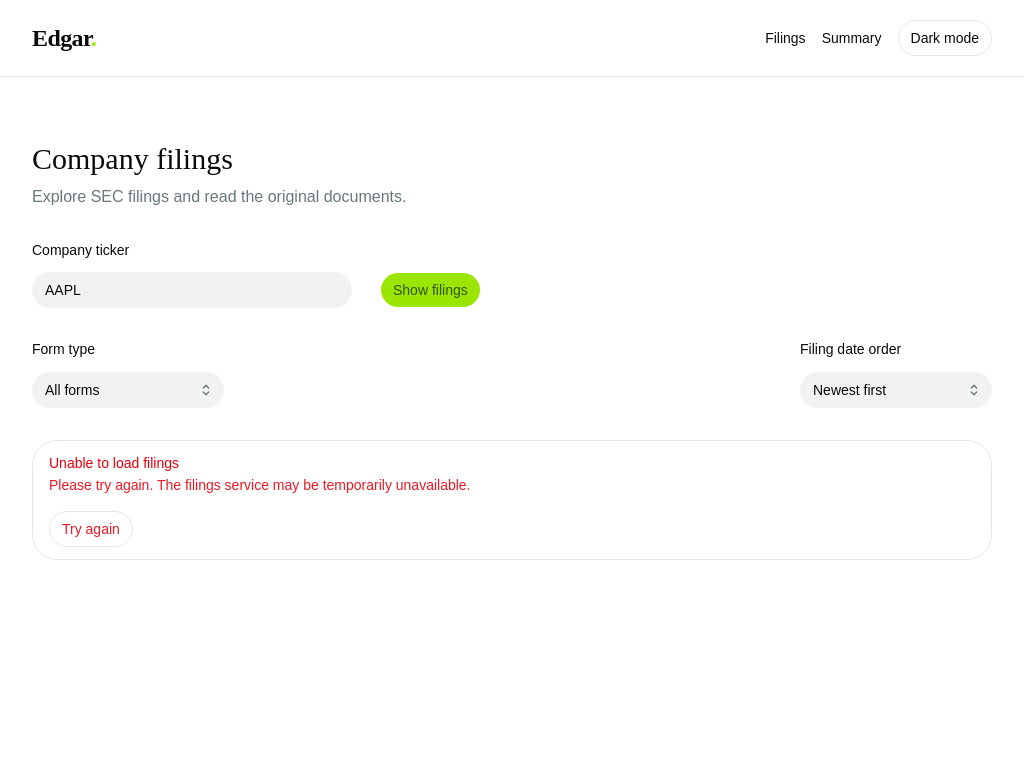
Test case: filings page › allows retrying a service failure
expect the message shows "Unable to load filings": met, box [49, 454, 179, 470]
Click the button "Try again" at (91, 528), box [49, 510, 133, 546]
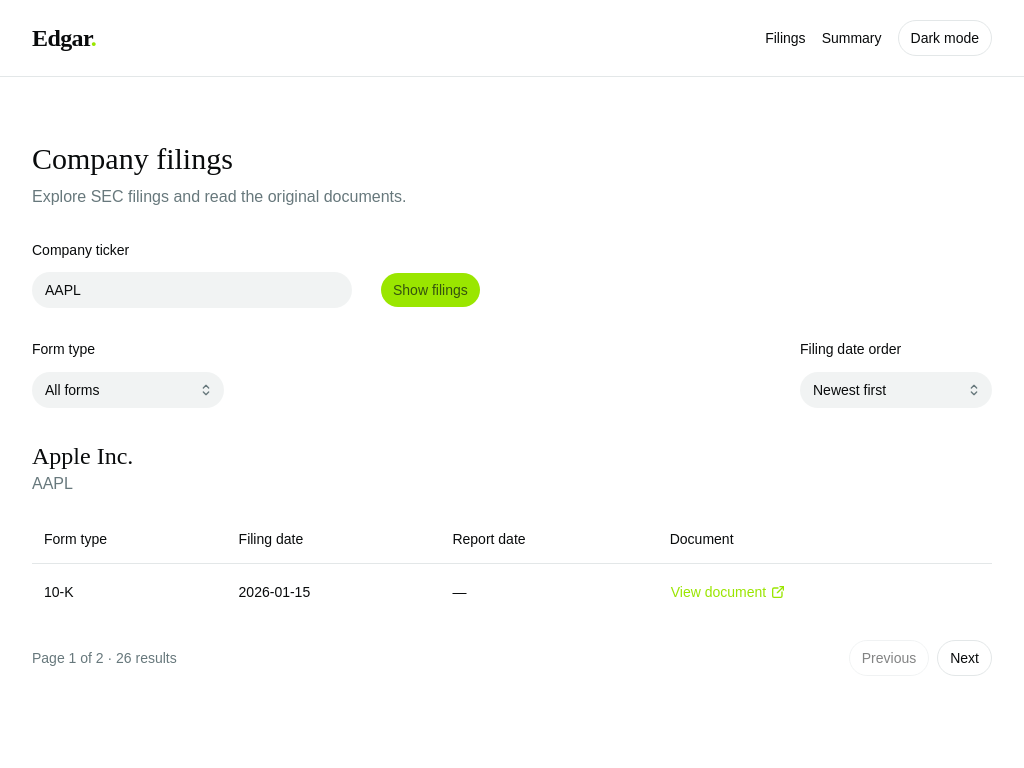
expect the heading "Apple Inc." is shown: met, box [32, 442, 133, 468]
